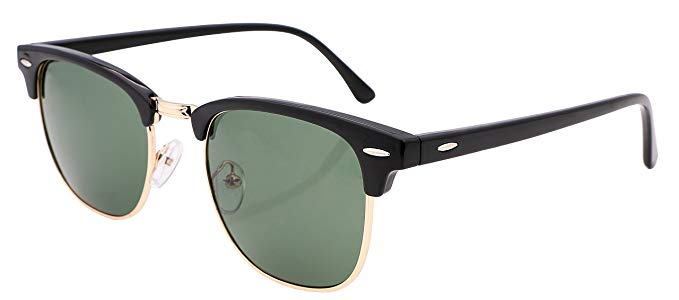sunglasses: (12, 30, 666, 287)
